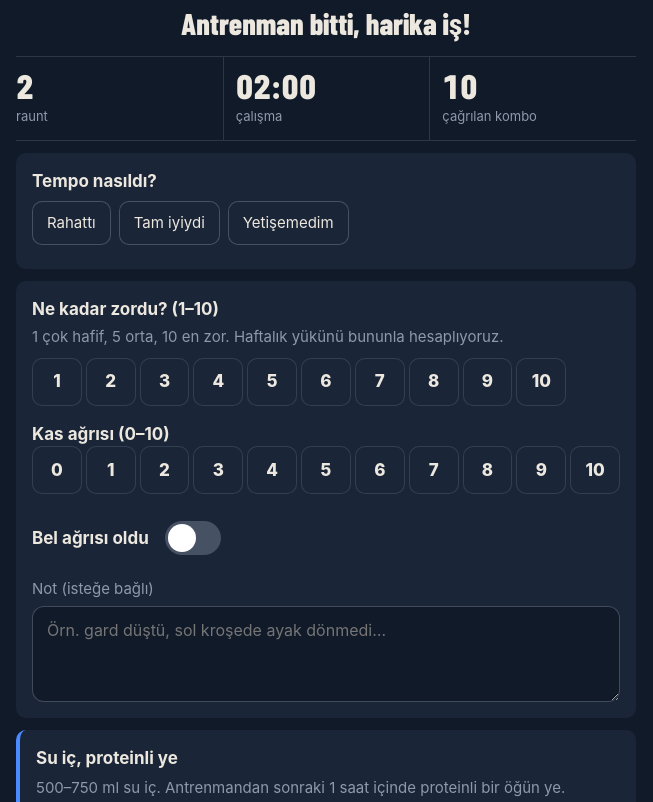
Test: Antrenman sonu: tempo ve kombo hafızası › "Rahattı" bir kademe hızlandırır, "Yetişemedim" başlangıç tempoya göre yavaşlatır
Click the button "Rahattı": (71, 223) 32,201 -> 111,245
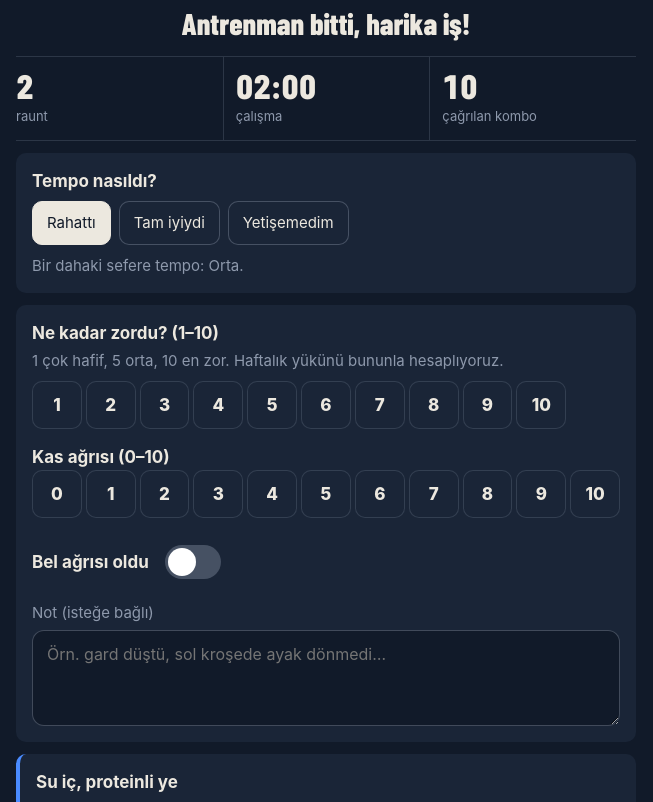
Now the text "Bir dahaki sefere tempo: Orta." is shown, box 32,256 -> 244,275
Click the button "Yetişemedim": (288, 223) 228,201 -> 349,245
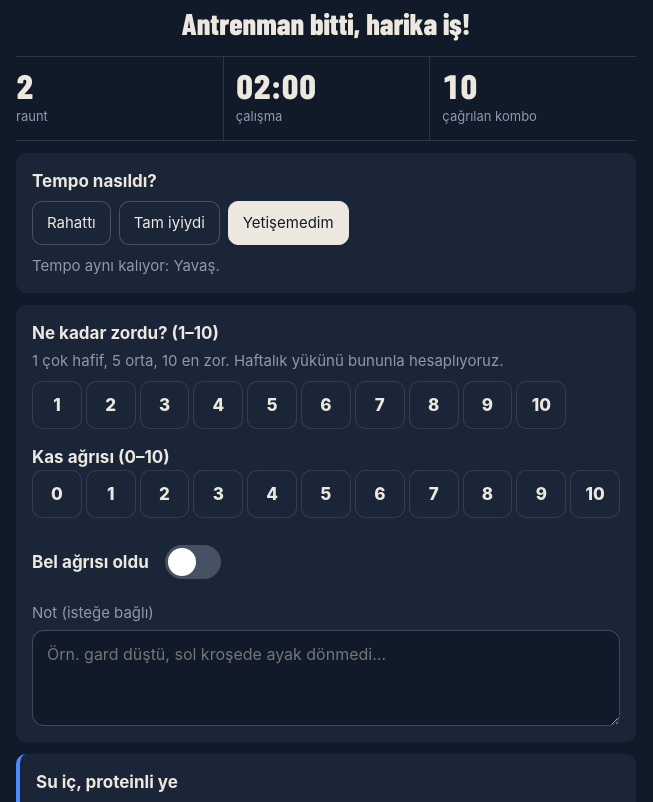
Now the text "Tempo aynı kalıyor: Yavaş." is shown, box 32,256 -> 220,275
